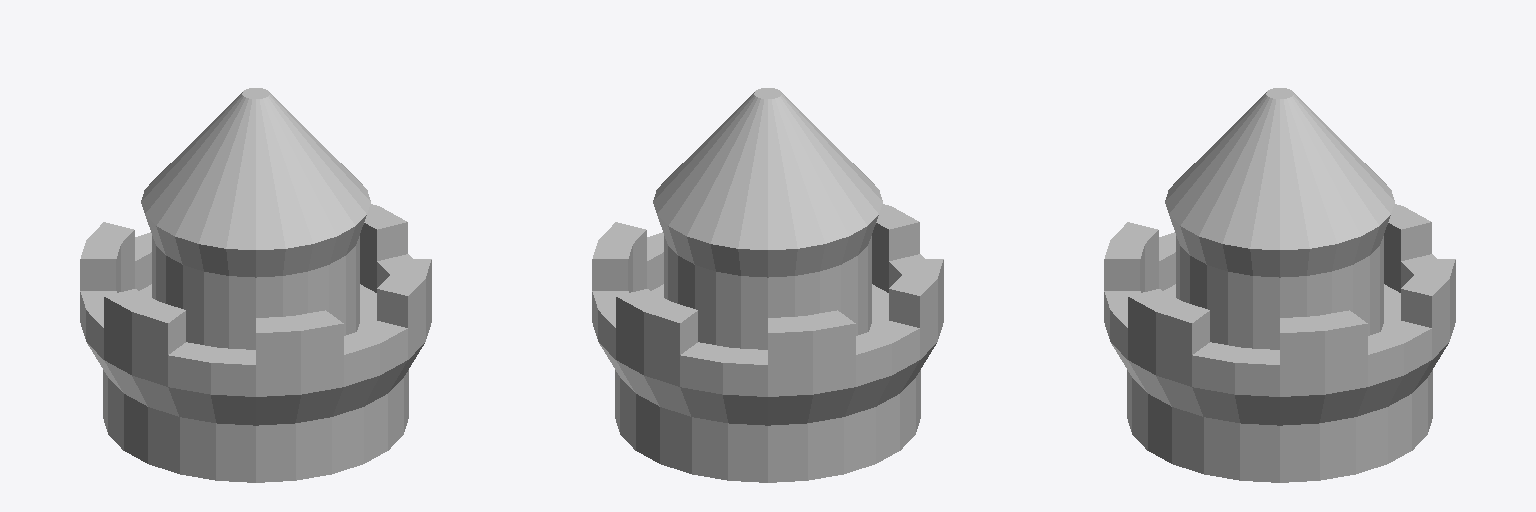
File: towerRound_roofB.obj
3 views of the same model, side by side, from view 1: azimuth 30°, elevation 25°; view 2: azimuth 150°, elevation 25°; view 3: azimuth 270°, elevation 25° (orthographic).
Visible parts, largest first — view 1: towerRound_roofB; view 2: towerRound_roofB; view 3: towerRound_roofB.
Boxes of the visible parts, x1=… form: towerRound_roofB: x1=80, y1=88, x2=431, y2=482; towerRound_roofB: x1=592, y1=88, x2=943, y2=482; towerRound_roofB: x1=1104, y1=88, x2=1455, y2=482.
Size of the model in its own units: 1 by 1.02 by 1.